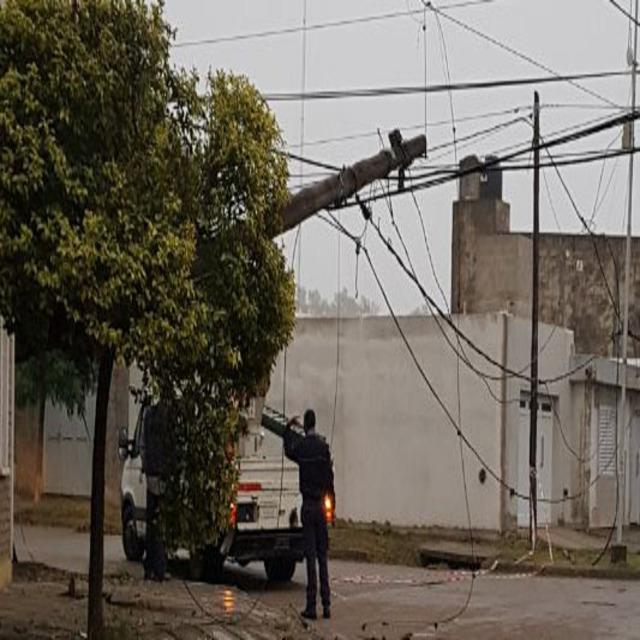Inclined Pole: (198, 116, 425, 276)
